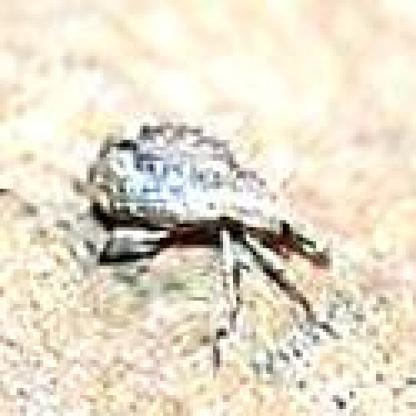rice-bug: (82, 114, 320, 325)
